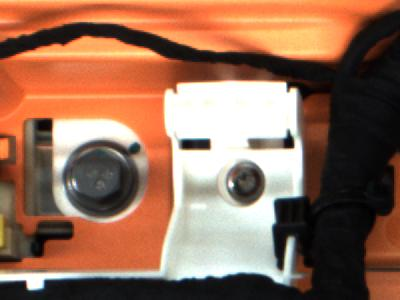nut_b: (61, 142, 138, 217)
screw_m: (221, 159, 269, 207)
